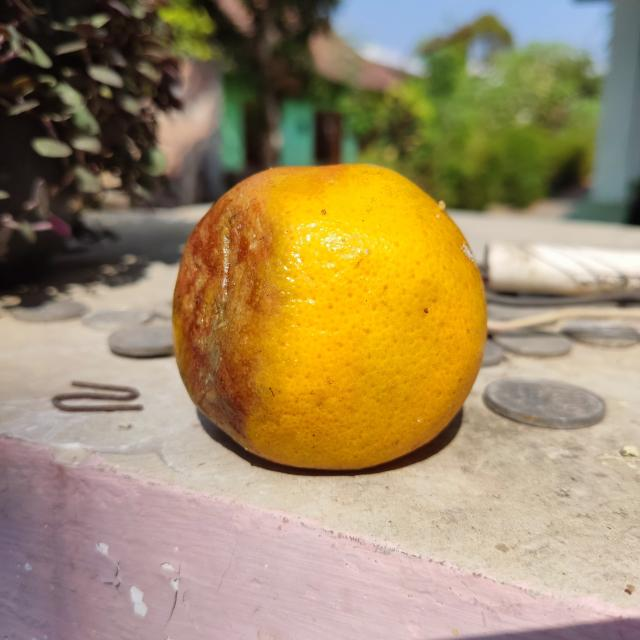orange: (169, 159, 490, 471)
